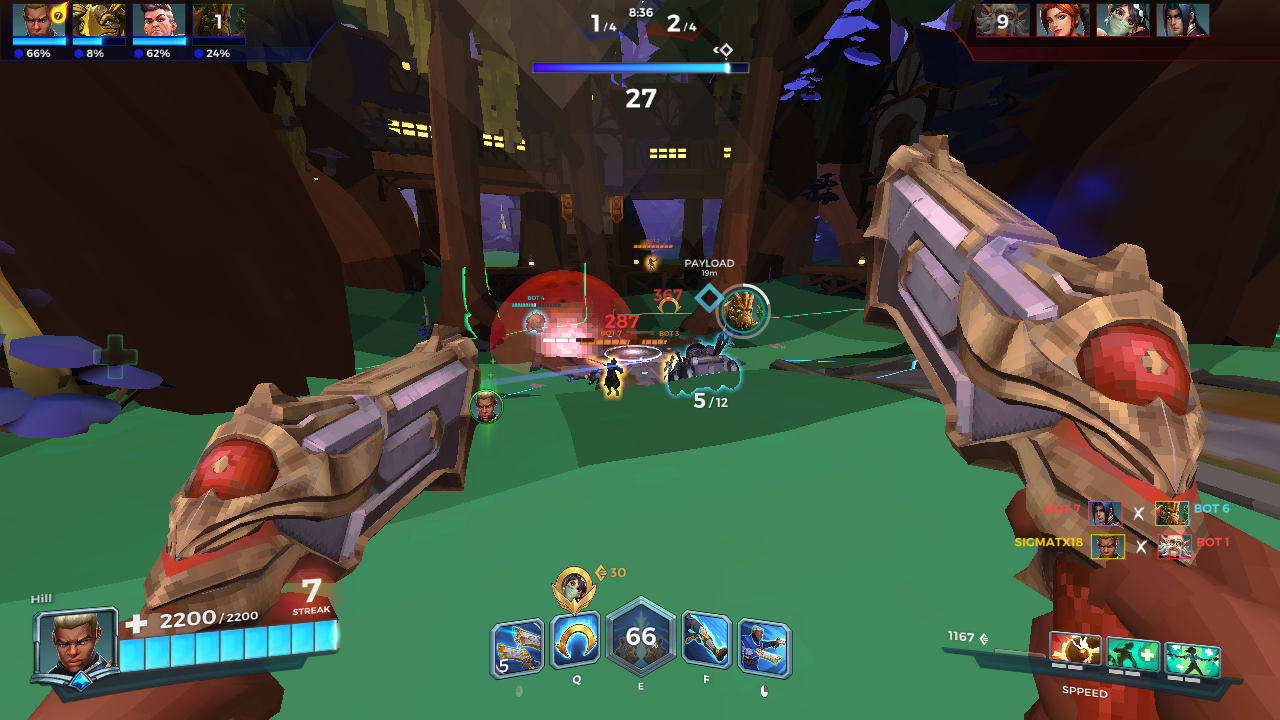model: (600, 354, 621, 398), (663, 350, 676, 384), (642, 254, 658, 274)
